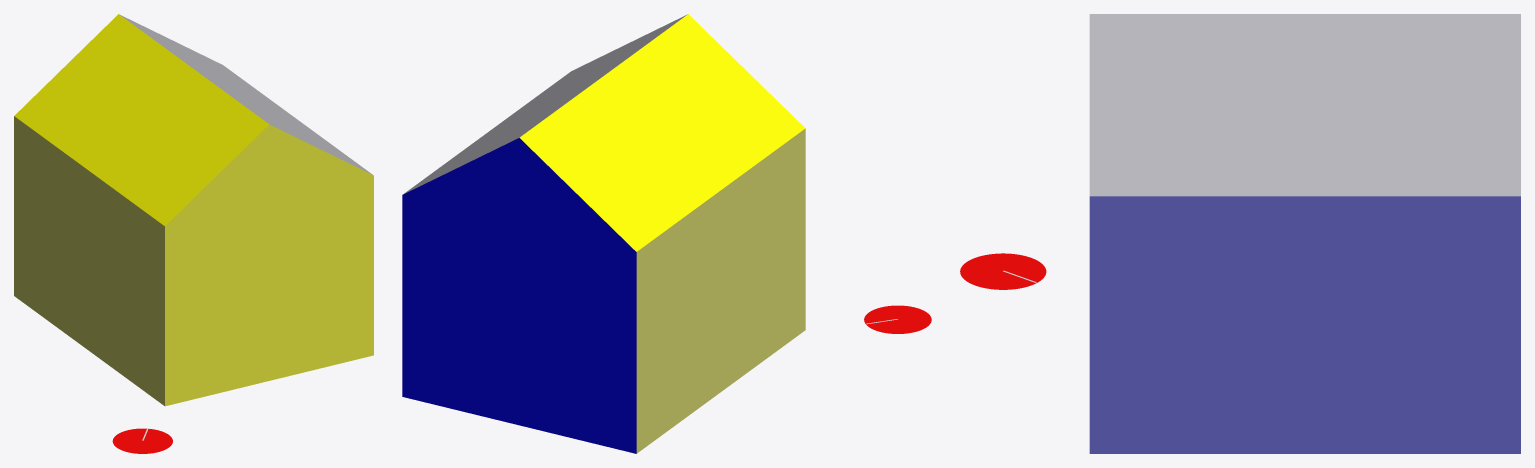
File: result.glb
3 renders of one model, left to right at view 1: azimuth 30°, elevation 25°; view 2: azimuth 150°, elevation 25°; view 3: azimuth 270°, elevation 25°, orthographic. The views are drawn at different scales.
Visible parts, largest first — view 1: a26805dd-3c53-44f3-9f86-7fdcb5243acb__undefined, d4d0d2a5-6426-4c6c-aec3-1a00108a2991__undefined, 04bb4698-2fe4-4619-9ae1-7967ceee5e30__undefined, 535c1ab5-1d90-4d63-b50c-4541a11c5020__undefined, 9a42b675-cfbc-4f63-bd0e-e21956f274dc__Circle; view 2: dfc64586-030b-42e5-8cdd-ad8014bf902f__undefined, d4d0d2a5-6426-4c6c-aec3-1a00108a2991__undefined, 04bb4698-2fe4-4619-9ae1-7967ceee5e30__undefined, 535c1ab5-1d90-4d63-b50c-4541a11c5020__undefined, 9a42b675-cfbc-4f63-bd0e-e21956f274dc__Circle; view 3: 7f92b0b8-2c4a-45d1-aac4-ef9322901483__undefined, 535c1ab5-1d90-4d63-b50c-4541a11c5020__undefined, 9a42b675-cfbc-4f63-bd0e-e21956f274dc__Circle.
Part boxes in pixels (x1,y1,x2,y2): a26805dd-3c53-44f3-9f86-7fdcb5243acb__undefined: (165, 124, 373, 406); d4d0d2a5-6426-4c6c-aec3-1a00108a2991__undefined: (14, 116, 164, 405); 04bb4698-2fe4-4619-9ae1-7967ceee5e30__undefined: (14, 14, 268, 225); 535c1ab5-1d90-4d63-b50c-4541a11c5020__undefined: (119, 14, 372, 174); 9a42b675-cfbc-4f63-bd0e-e21956f274dc__Circle: (112, 428, 172, 453); dfc64586-030b-42e5-8cdd-ad8014bf902f__undefined: (402, 138, 636, 453); d4d0d2a5-6426-4c6c-aec3-1a00108a2991__undefined: (636, 128, 805, 453); 04bb4698-2fe4-4619-9ae1-7967ceee5e30__undefined: (519, 14, 805, 251); 535c1ab5-1d90-4d63-b50c-4541a11c5020__undefined: (403, 14, 687, 194); 9a42b675-cfbc-4f63-bd0e-e21956f274dc__Circle: (864, 305, 931, 333); 7f92b0b8-2c4a-45d1-aac4-ef9322901483__undefined: (1089, 196, 1520, 453); 535c1ab5-1d90-4d63-b50c-4541a11c5020__undefined: (1089, 14, 1520, 196); 9a42b675-cfbc-4f63-bd0e-e21956f274dc__Circle: (960, 253, 1046, 289).
Bounding box in the file's own units: 550 × 469 × 650.
